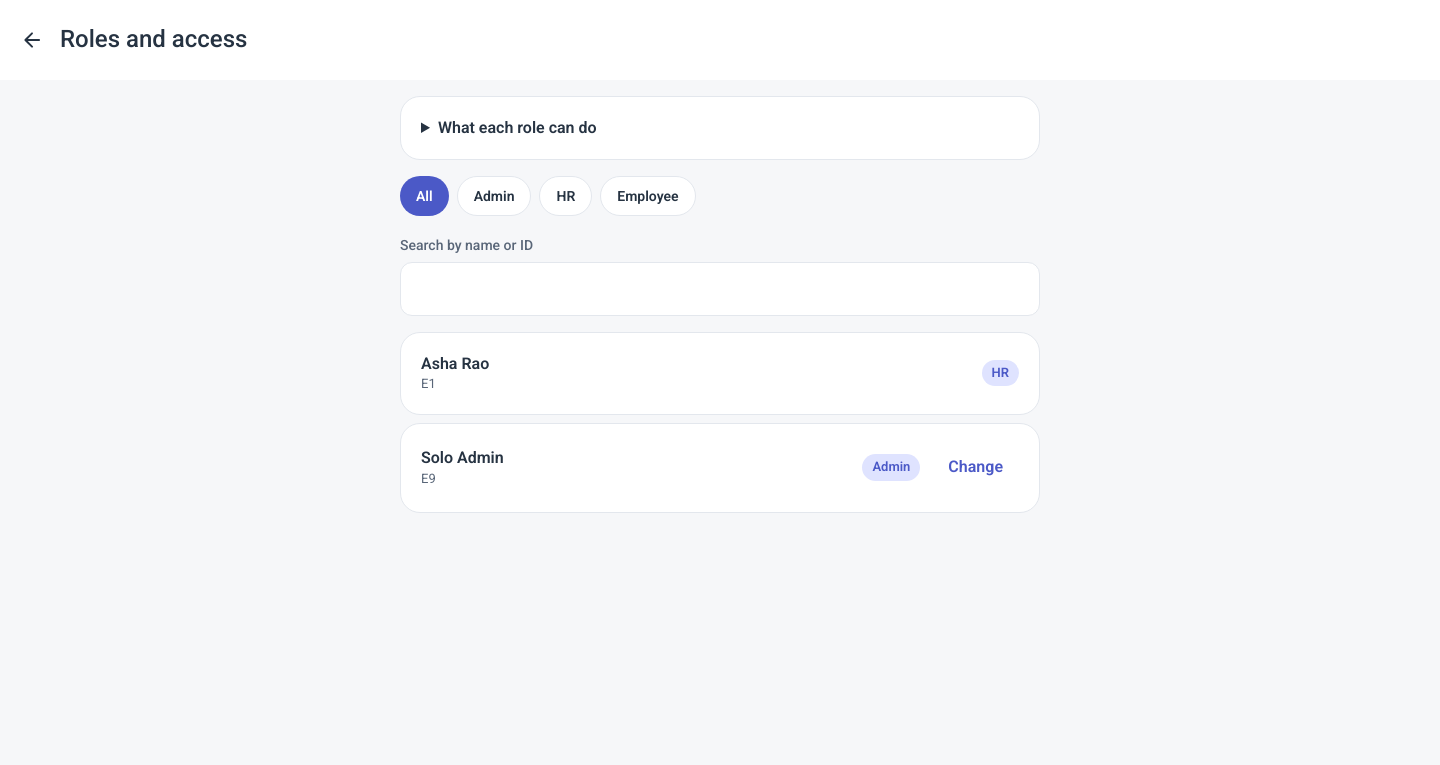
Test case: Roles and step-up password › the last active Admin cannot be demoted
This screenshot has width=1440, height=765.
Click the button "Change" at (976, 468), box top-left (932, 444), bottom-right (1019, 492)
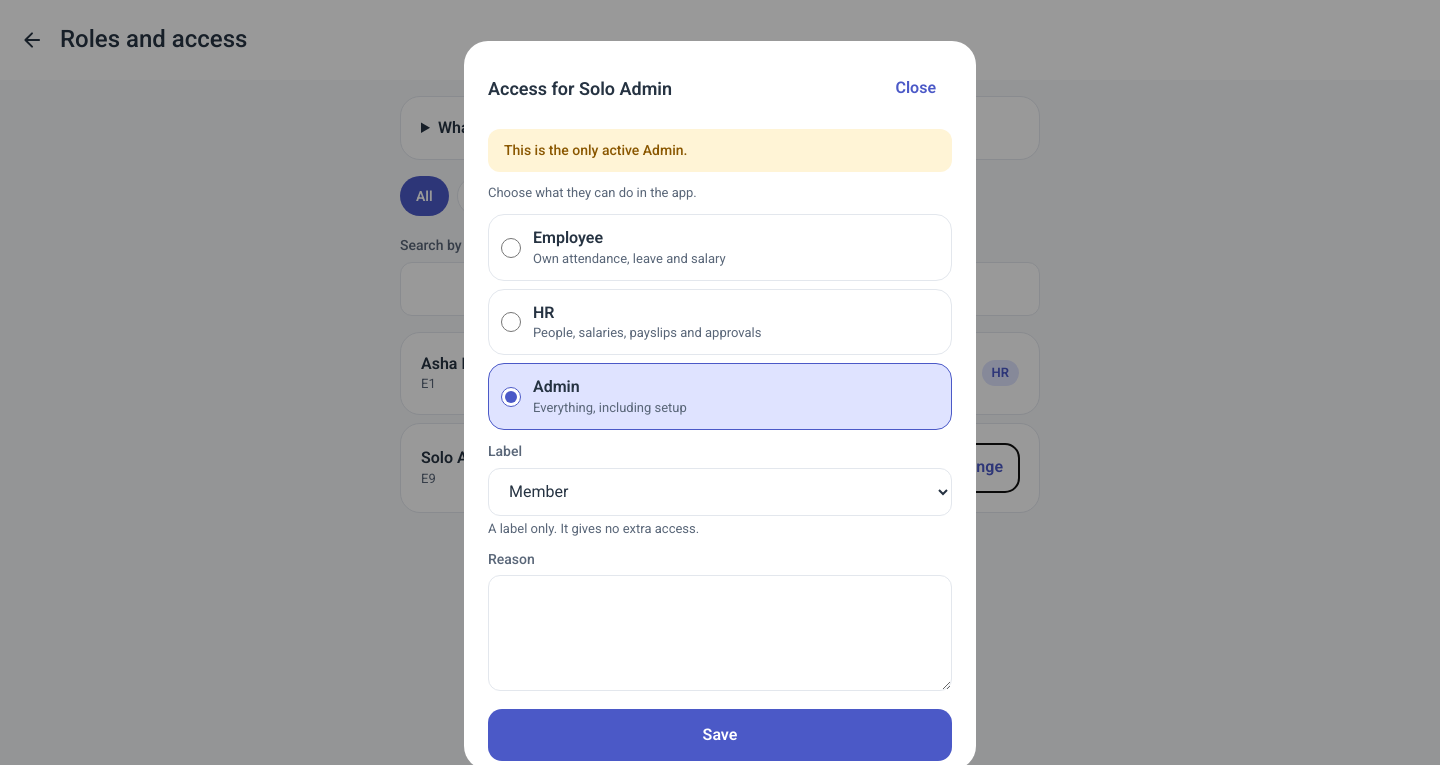
Expected: the text "This is the only active Admin." is shown, top-left (488, 128), bottom-right (952, 172)
Click the radio button labelled "Employee Own attendance, leave and salary" at (511, 248), box top-left (501, 238), bottom-right (521, 258)
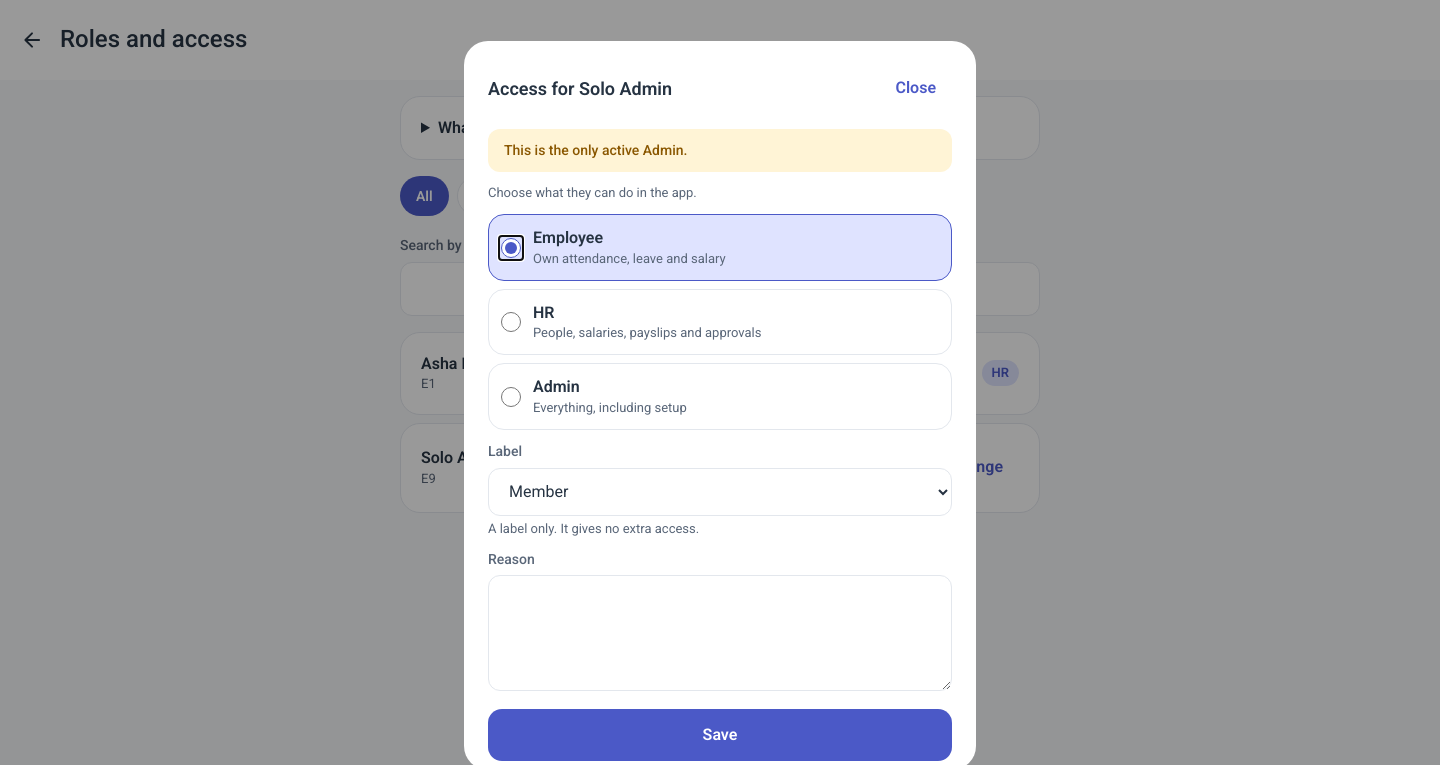
Type "Leaving" into the text box labelled "Reason" at (720, 633), box top-left (488, 575), bottom-right (952, 691)
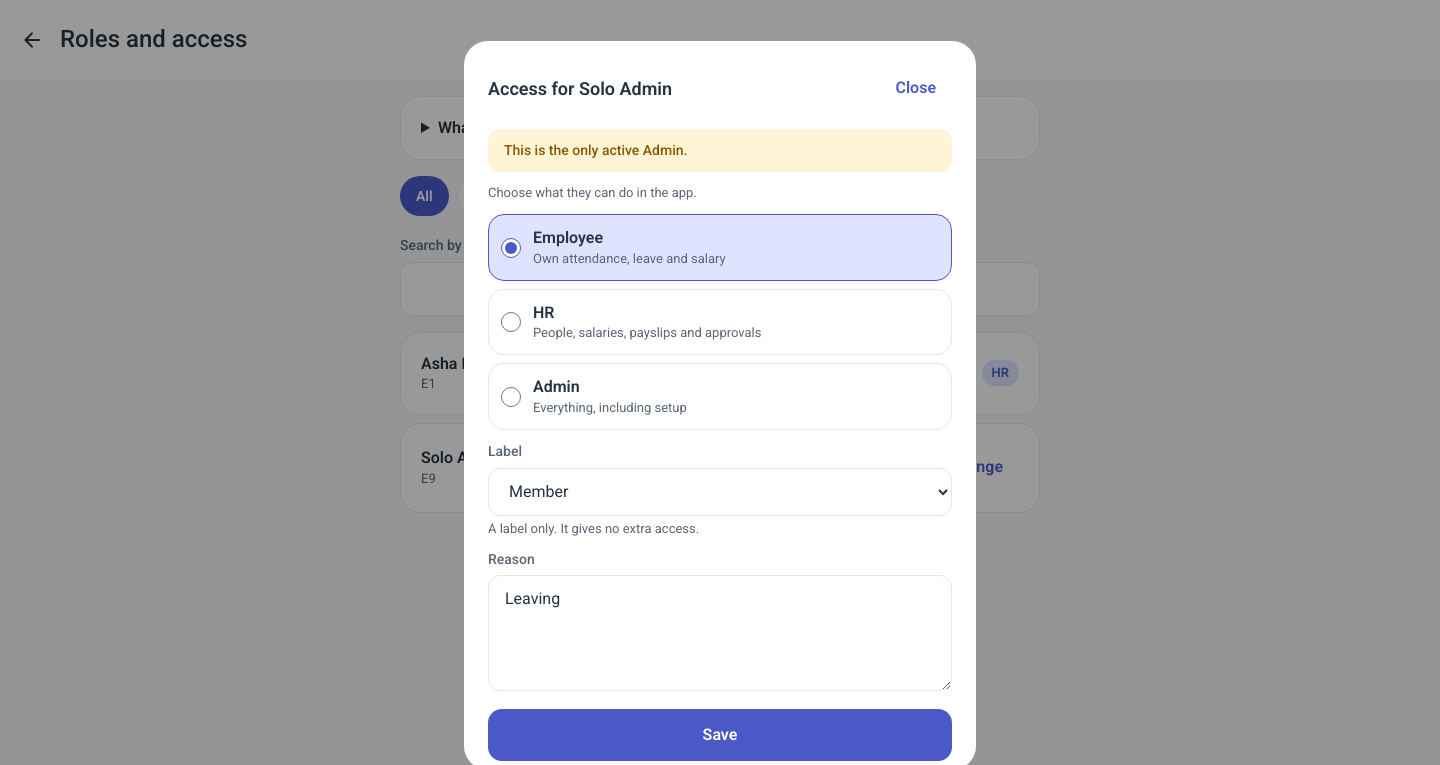
Click the button "Save" at (720, 735), box top-left (488, 709), bottom-right (952, 761)
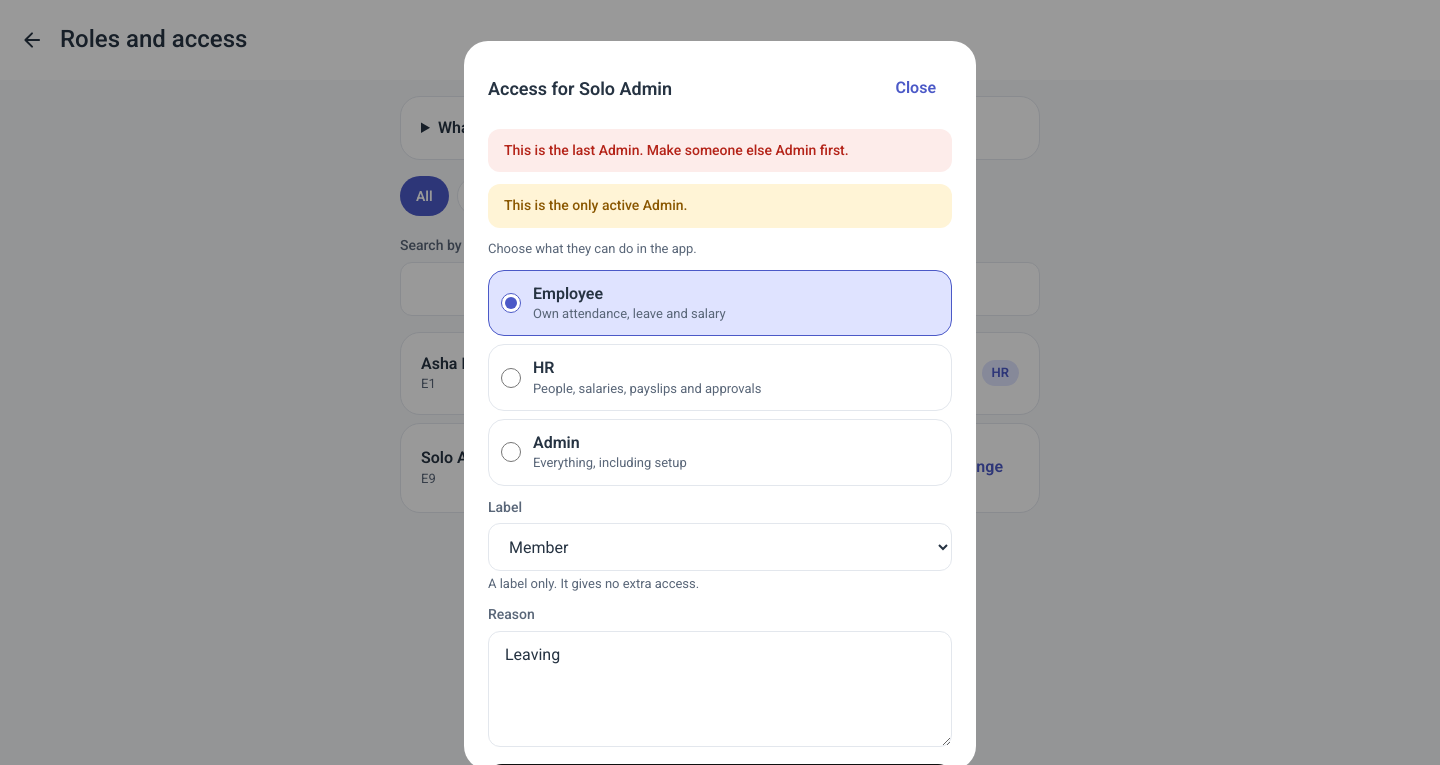
Expected: the text "This is the last Admin. Make someone else Admin first." is shown, top-left (488, 128), bottom-right (952, 172)
